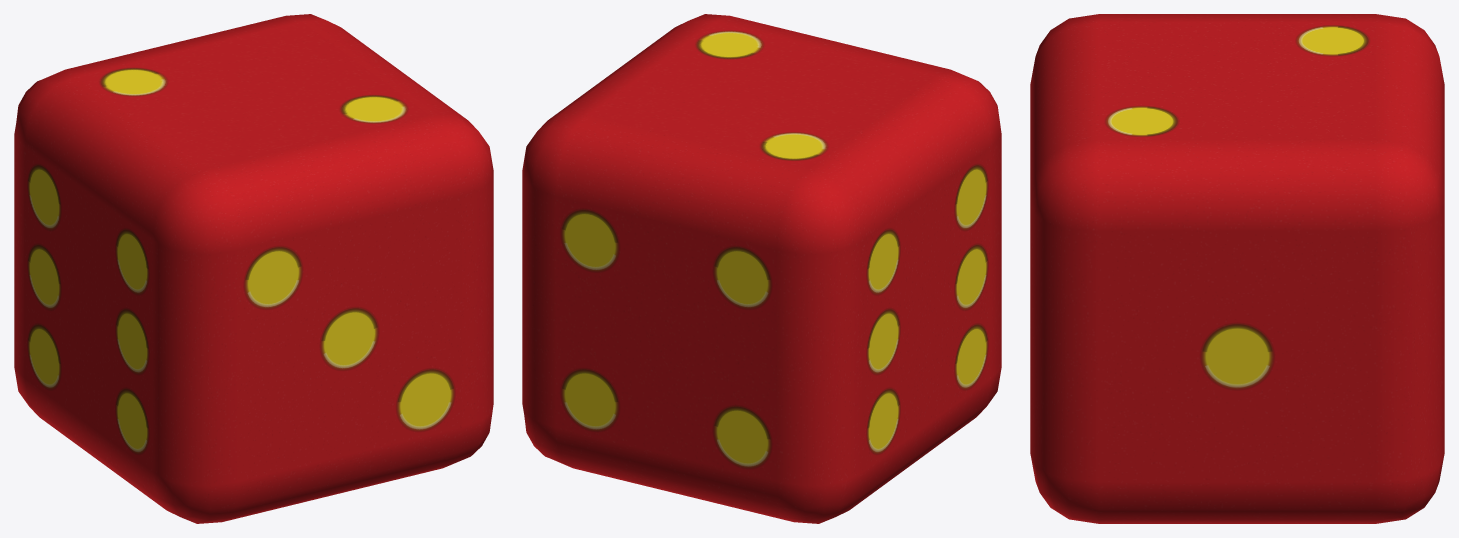
Rendered from dobbelsteen_rood_geel_pips.glb.
3 views of the same model, side by side, from view 1: azimuth 30°, elevation 25°; view 2: azimuth 150°, elevation 25°; view 3: azimuth 270°, elevation 25° (orthographic). The views are drawn at different scales.
Visible parts, largest first — view 1: dobbelsteen_rood_geel_pips; view 2: dobbelsteen_rood_geel_pips; view 3: dobbelsteen_rood_geel_pips.
Part boxes in pixels (x1,y1,x2,y2): dobbelsteen_rood_geel_pips: (14,14,493,523); dobbelsteen_rood_geel_pips: (522,14,1001,523); dobbelsteen_rood_geel_pips: (1030,14,1444,523).
Size of the model in its own units: 1 by 1 by 1.
Materials: 6 (6 with a texture image).
